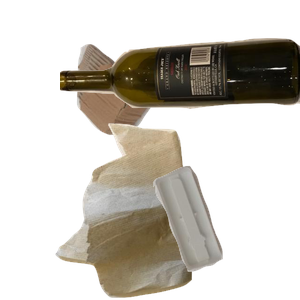cardboard: (74, 42, 225, 170)
glass: (60, 36, 300, 147)
plastic: (150, 163, 300, 300)
trash: (53, 121, 239, 300)
